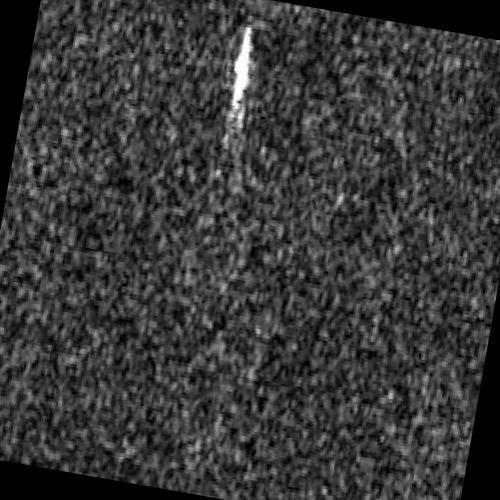ship: (231, 25, 251, 110)
